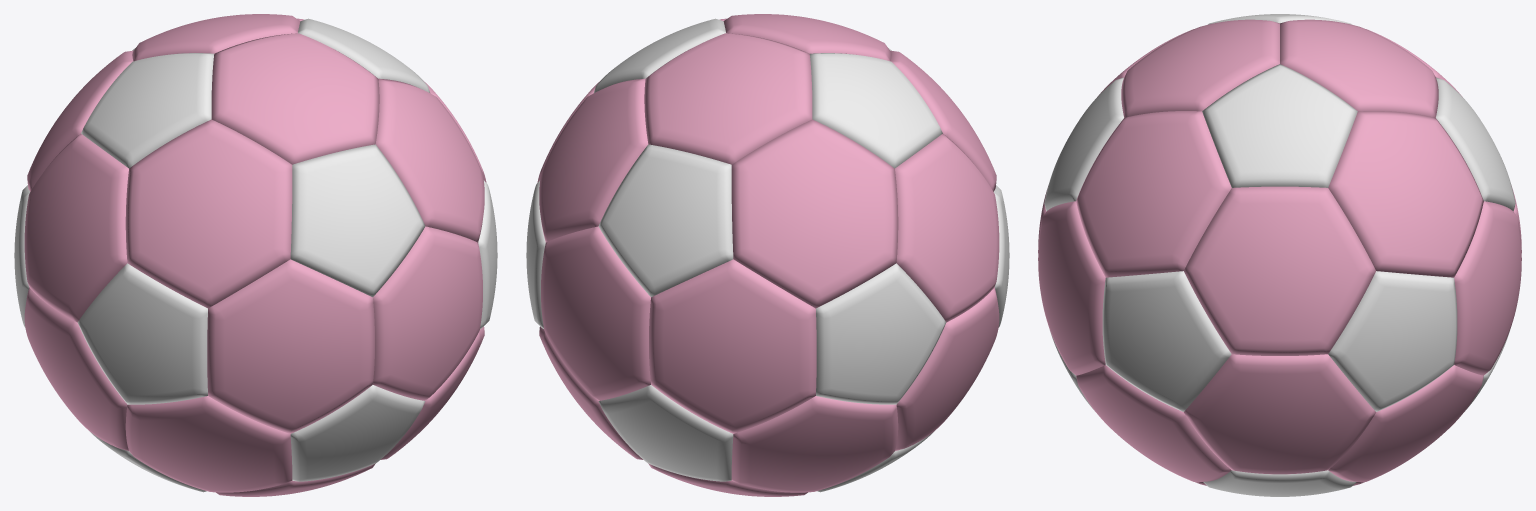
The model's file is ball.gltf.
3 renders of one model, left to right at view 1: azimuth 30°, elevation 25°; view 2: azimuth 150°, elevation 25°; view 3: azimuth 270°, elevation 25°, orthographic.
Parts seen in each view (by area): view 1: Solid.001; view 2: Solid.001; view 3: Solid.001.
Boxes of the visible parts, bbox=[...] form: Solid.001: bbox=[14, 14, 497, 496]; Solid.001: bbox=[526, 14, 1009, 496]; Solid.001: bbox=[1038, 14, 1521, 496].
Bounding box in the file's own units: 1.94 × 1.94 × 1.94.
